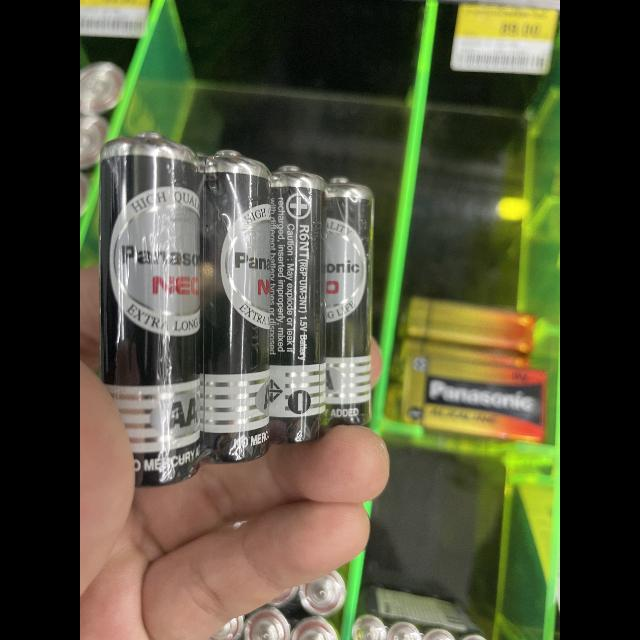battery: (104, 130, 209, 494), (194, 132, 276, 469), (387, 300, 553, 432), (262, 157, 337, 449), (210, 568, 502, 640), (317, 169, 378, 426), (80, 51, 152, 223)
